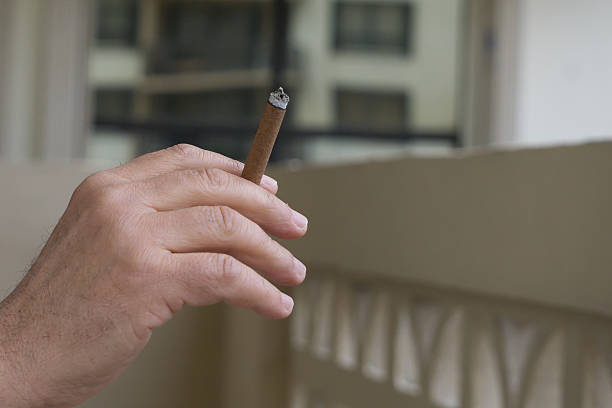cigarette: (242, 87, 290, 185)
